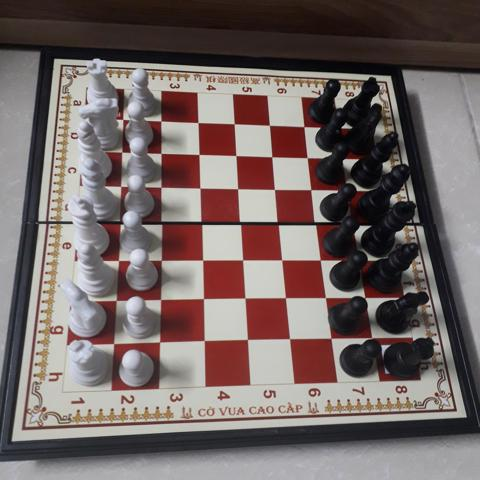xcorner: (300, 119, 315, 134), (192, 115, 207, 130), (339, 150, 354, 165), (303, 149, 318, 164), (230, 148, 245, 163), (154, 146, 169, 161), (115, 145, 130, 160), (344, 182, 359, 197), (307, 182, 322, 197), (270, 181, 285, 196), (232, 181, 247, 196), (193, 180, 208, 195), (154, 179, 169, 194), (311, 216, 326, 231), (273, 216, 288, 231), (194, 215, 209, 230), (153, 215, 168, 230), (112, 215, 127, 230), (354, 252, 369, 267), (315, 252, 330, 267), (276, 252, 291, 267), (236, 252, 251, 267), (110, 253, 125, 268), (359, 290, 374, 305), (279, 291, 294, 306), (152, 293, 167, 308), (108, 293, 123, 308), (365, 330, 380, 345), (324, 331, 339, 346), (240, 333, 255, 348), (196, 334, 211, 349), (152, 335, 167, 350), (106, 336, 121, 351), (335, 120, 349, 135), (265, 118, 279, 133), (155, 114, 169, 129), (117, 113, 131, 128), (267, 149, 282, 163), (193, 147, 207, 162), (114, 179, 128, 194), (349, 216, 363, 231), (234, 216, 249, 230), (195, 253, 210, 267), (153, 253, 168, 267), (238, 292, 253, 306), (196, 292, 210, 307), (283, 332, 297, 347), (229, 117, 243, 131), (320, 291, 334, 305)
